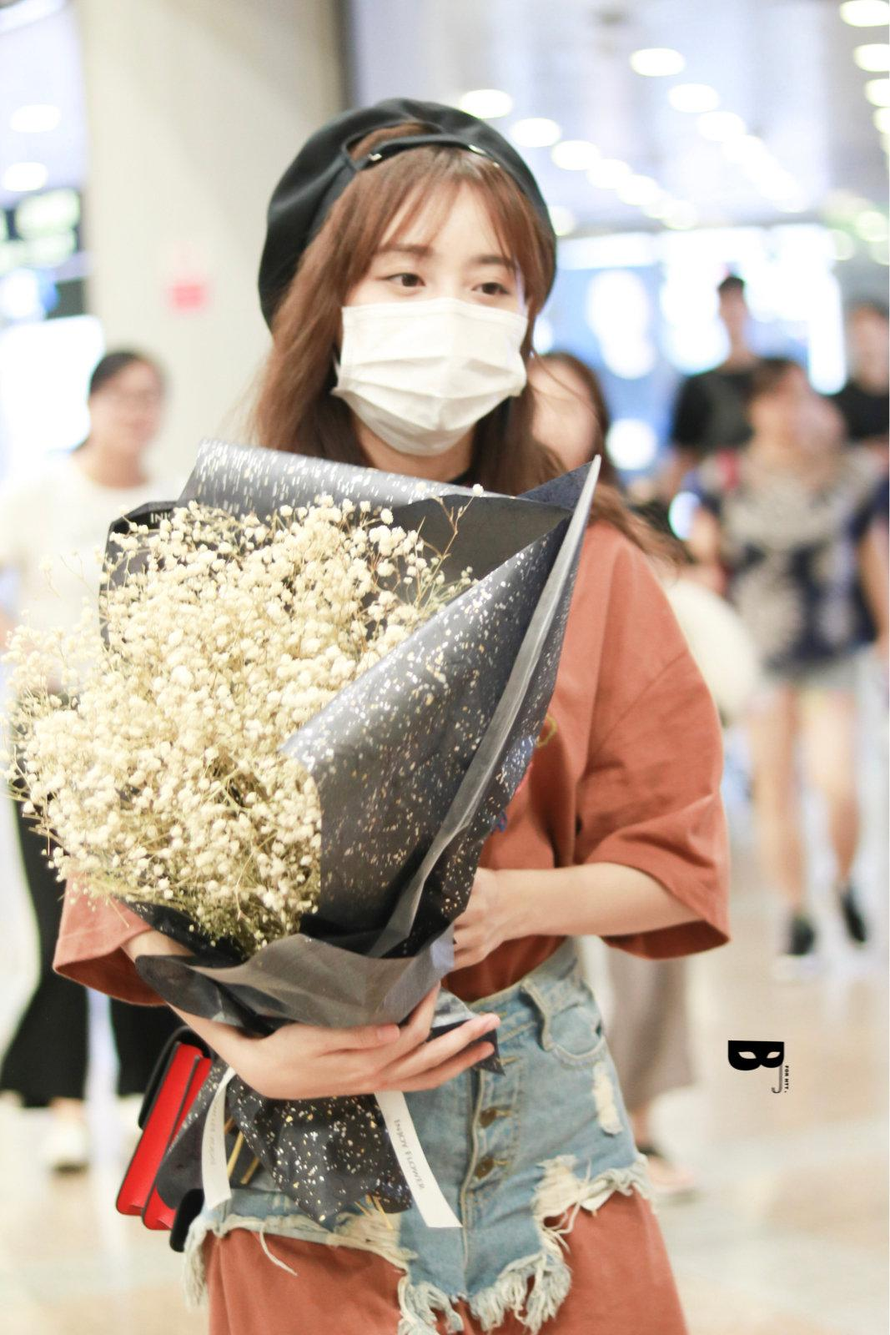NONE: (97, 374, 167, 449)
OK: (344, 220, 529, 446)
